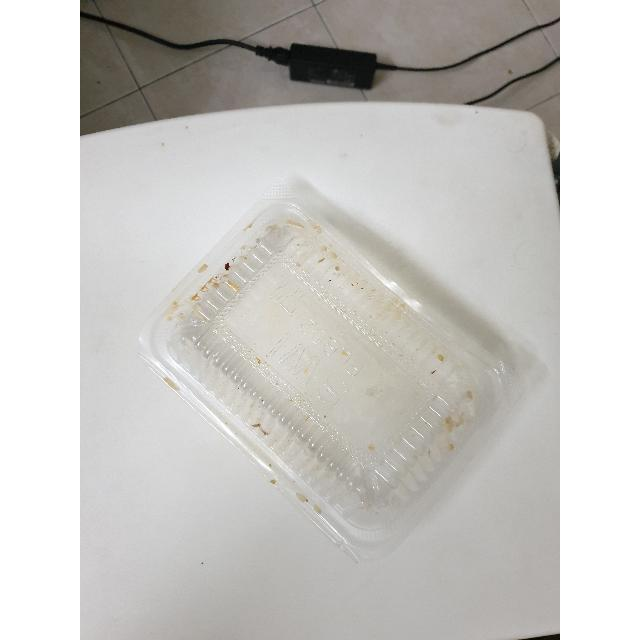Recipiente plastico: (139, 179, 519, 559)
